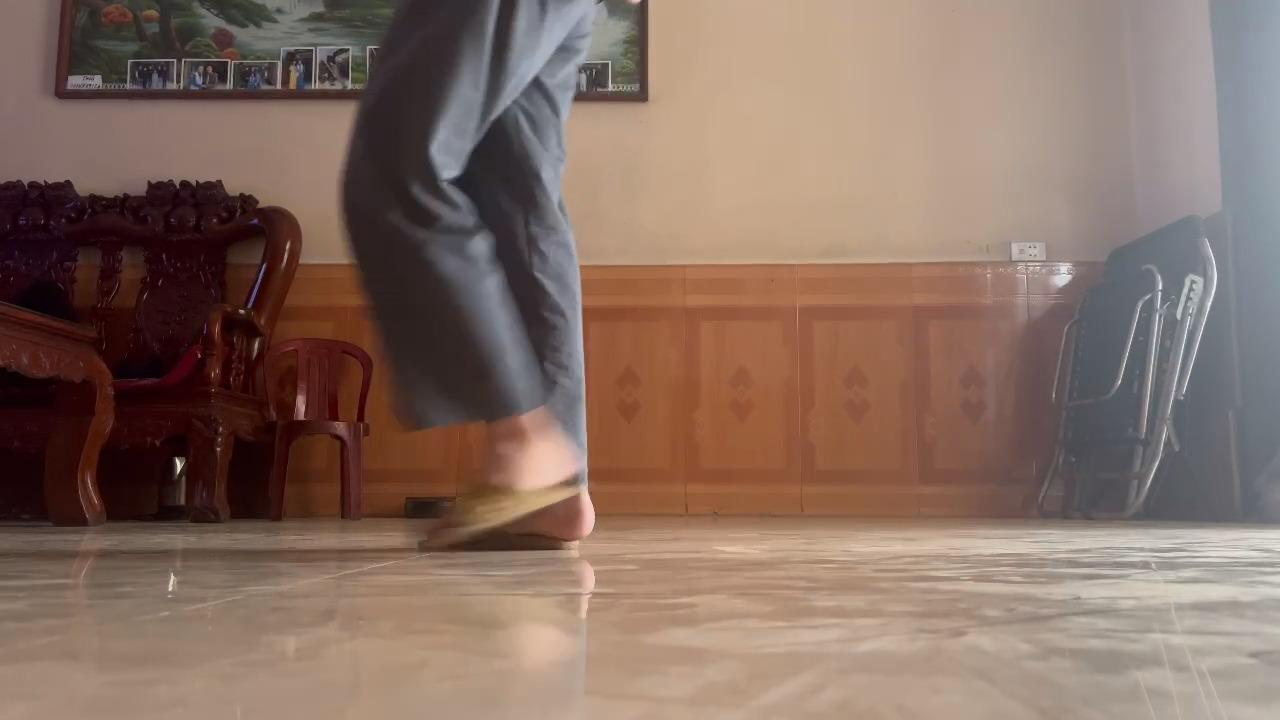no-boot: (413, 450, 604, 560)
